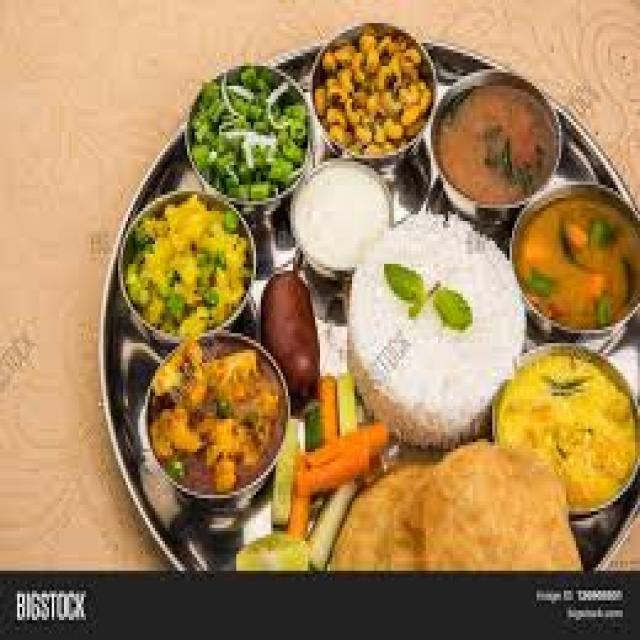curd: (289, 158, 392, 271)
dal: (512, 349, 633, 509)
rice: (345, 208, 524, 425)
roti: (338, 460, 587, 573)
sambar-rasam: (431, 55, 565, 208)
sweet: (258, 273, 329, 391)
veg: (153, 338, 287, 499)
veg-fry: (307, 22, 438, 170)
